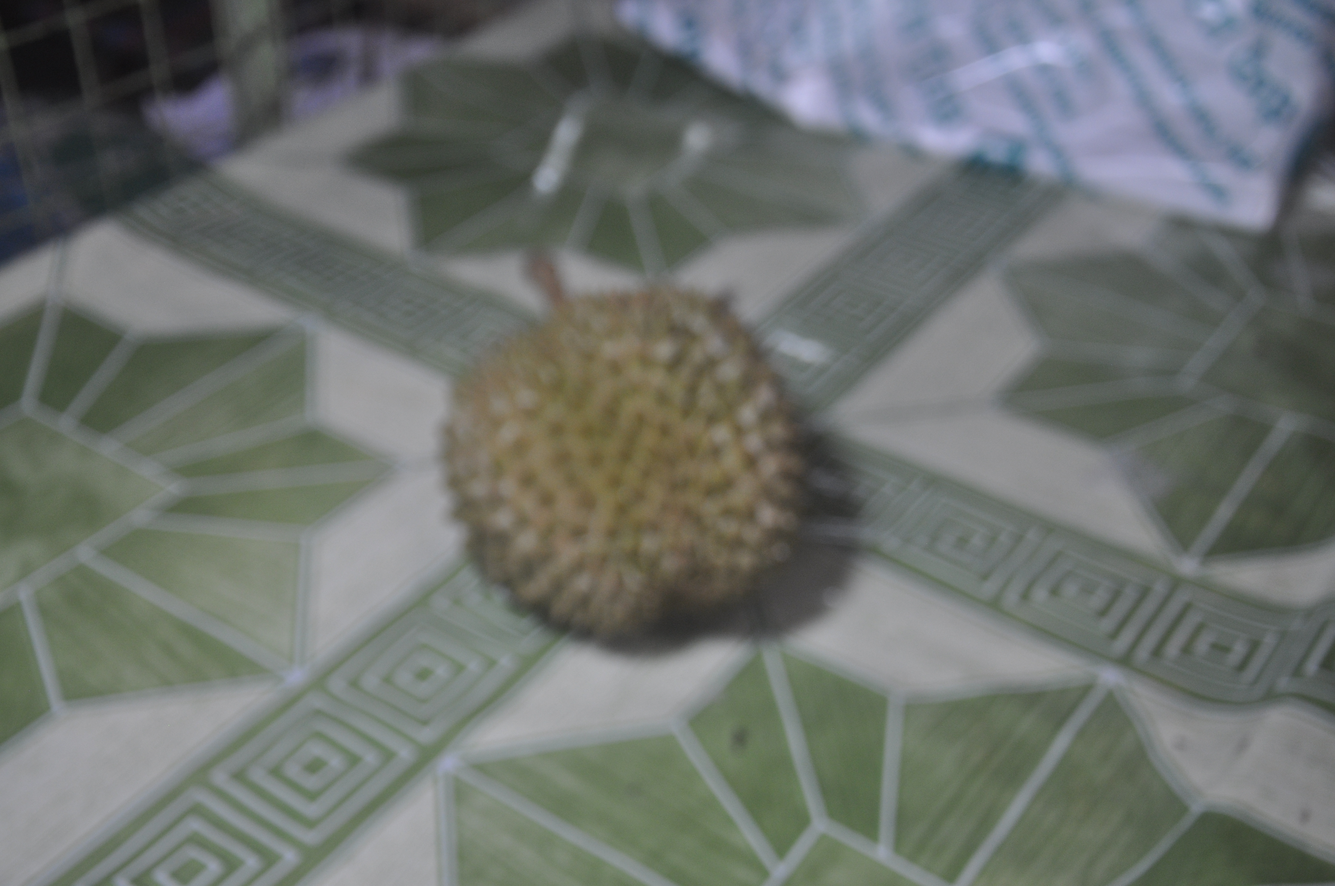mature: (391, 193, 875, 719)
